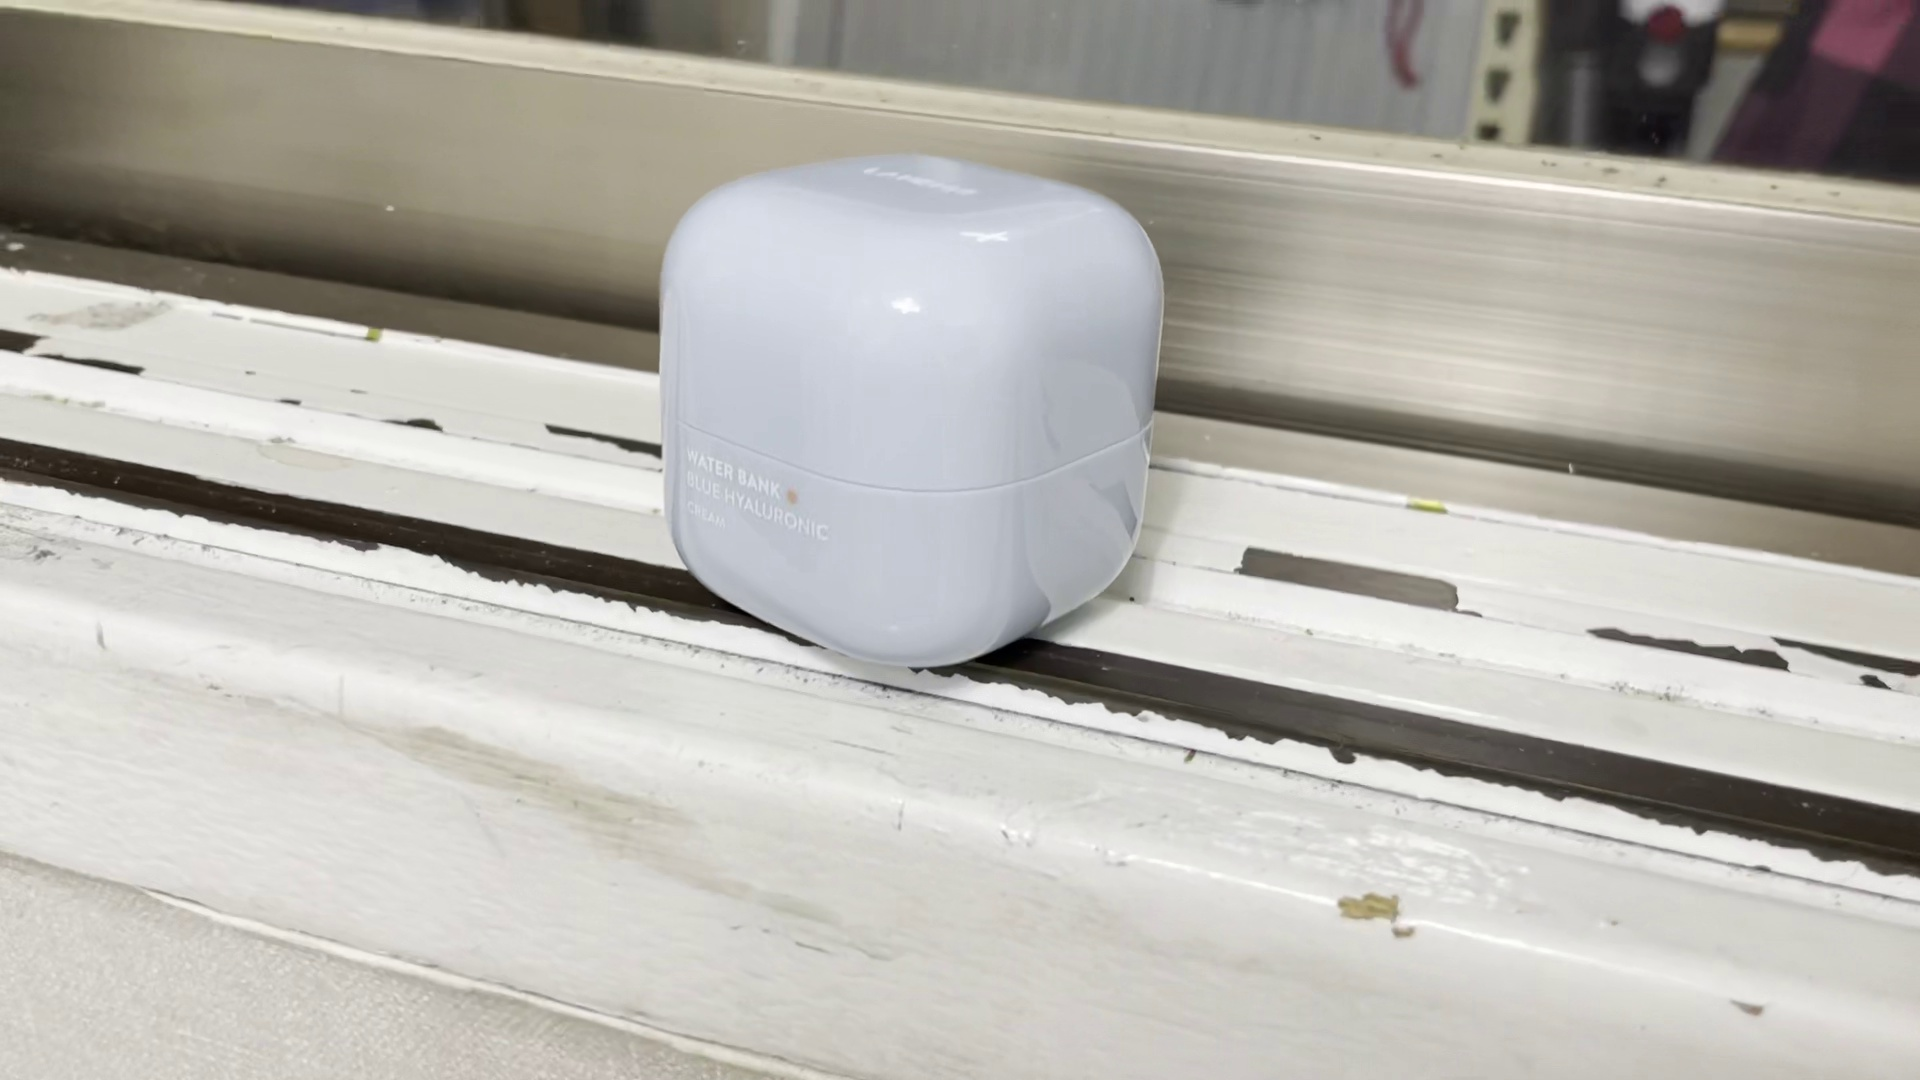cream: (654, 154, 1163, 666)
